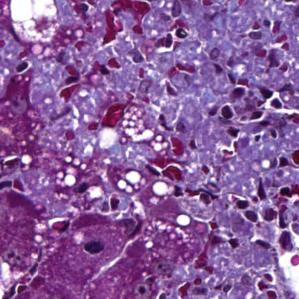ballooning: (6, 0, 65, 46)
